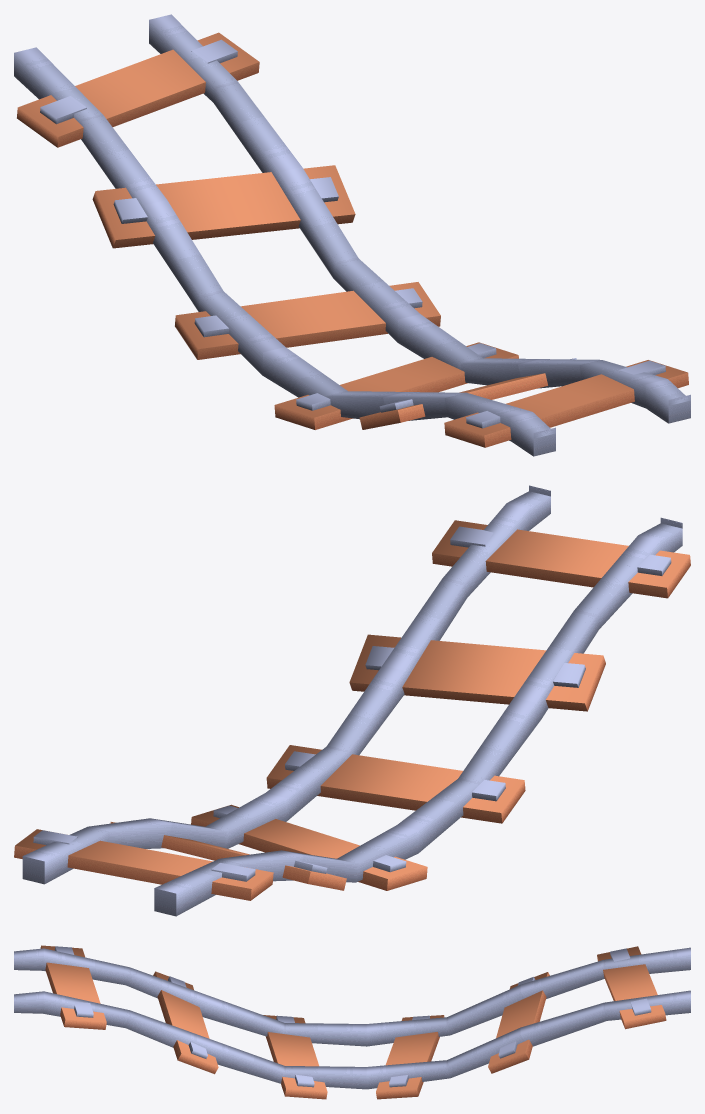
Rendered from railroad-damaged-straight-bump-down.glb.
The picture shows the model from 3 angles, top to bottom: view 1: azimuth 30°, elevation 25°; view 2: azimuth 150°, elevation 25°; view 3: azimuth 270°, elevation 25°; orthographic projection. The views are drawn at different scales.
Visible parts, largest first — view 1: railroad-damaged-straight-bump-down; view 2: railroad-damaged-straight-bump-down; view 3: railroad-damaged-straight-bump-down.
Part boxes in pixels (x1,y1,x2,y2): railroad-damaged-straight-bump-down: (14,14,690,456); railroad-damaged-straight-bump-down: (14,485,690,916); railroad-damaged-straight-bump-down: (14,945,690,1099).
Bounding box in the file's own units: 1.03 × 0.6062 × 4.
1 material, 1 textured.
